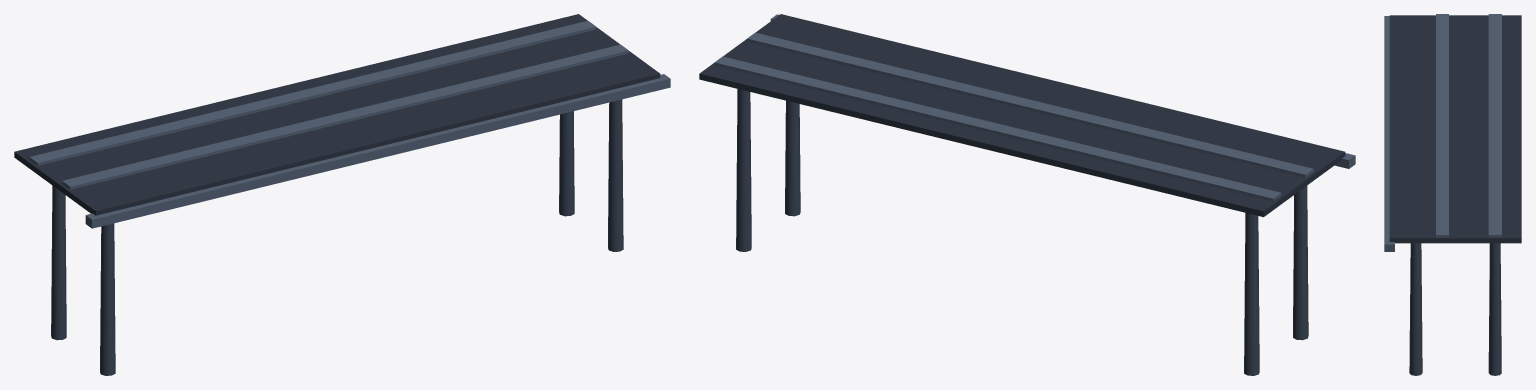
File: dock-canopy-structure-retained-lit-surfaces.glb
The picture shows the model from 3 angles, left to right: view 1: azimuth 30°, elevation 25°; view 2: azimuth 150°, elevation 25°; view 3: azimuth 270°, elevation 25°; orthographic projection. The views are drawn at different scales.
Parts seen in each view (by area): view 1: Authored_surface_071; view 2: Authored_surface_071; view 3: Authored_surface_071.
Boxes of the visible parts, left/top/right/bottom form: Authored_surface_071: left=14, top=14, right=670, bottom=375; Authored_surface_071: left=699, top=14, right=1355, bottom=375; Authored_surface_071: left=1384, top=14, right=1521, bottom=375.
Bounding box in the file's own units: 1 × 0.3024 × 0.2537.
